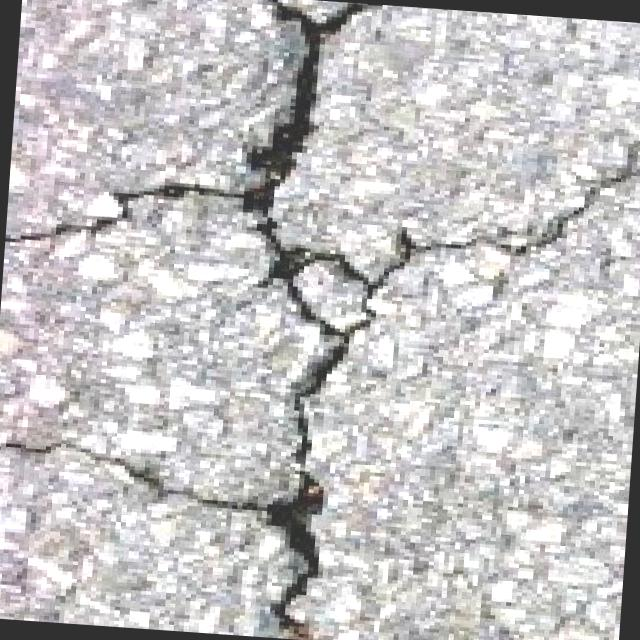crack: (217, 0, 397, 640), (376, 118, 640, 308), (0, 429, 267, 511), (8, 166, 242, 257)
